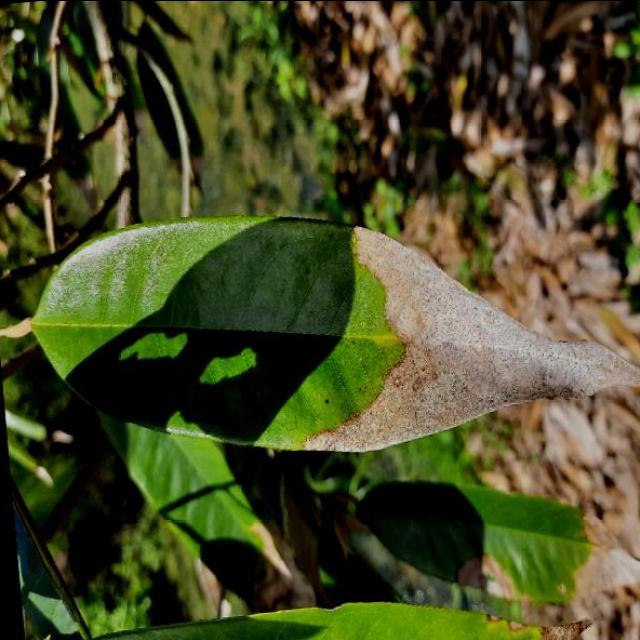Leaf Blight: (8, 169, 640, 489)
